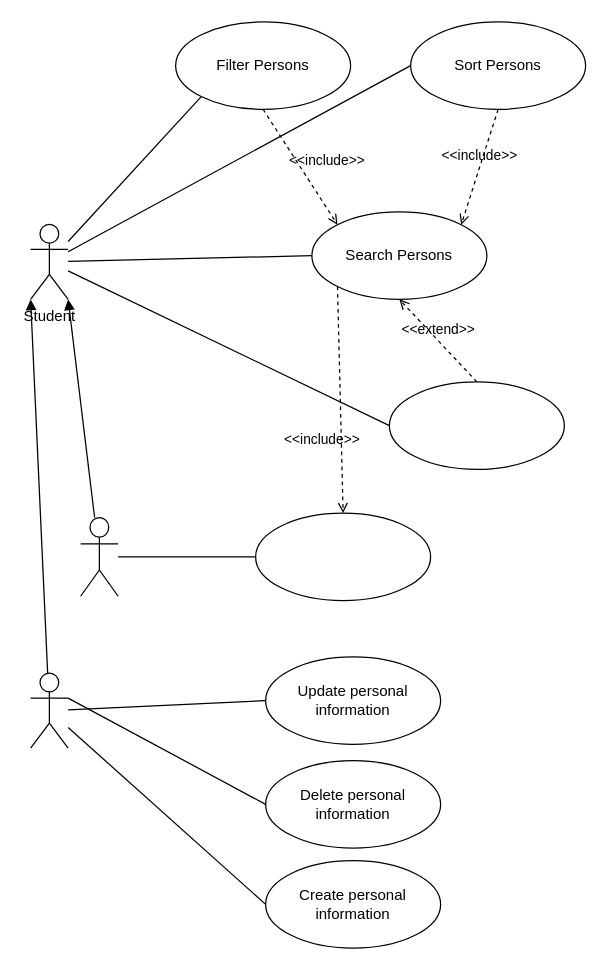
This 608x970 diagram has some shape labels left out. The box of each missing label's shape, as (x1, y1, x2, y2) in pixels:
Developer: (79, 516, 118, 596)
Embed Person: (254, 512, 431, 601)
Lecturer: (29, 672, 68, 748)
Request person details: (388, 381, 564, 469)
